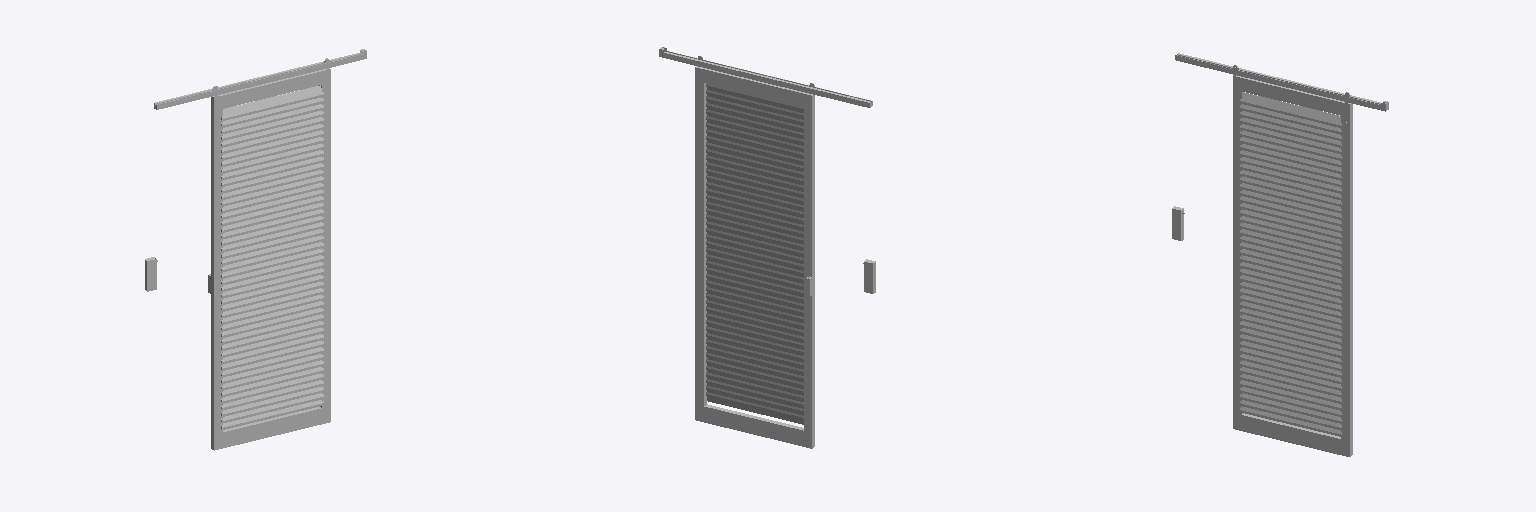
File: Sliding Door.obj
3 renders of one model, left to right at view 1: azimuth 30°, elevation 25°; view 2: azimuth 150°, elevation 25°; view 3: azimuth 330°, elevation 25°, orthographic.
Bounding box in the file's own units: 1.56 × 2.51 × 0.0772.